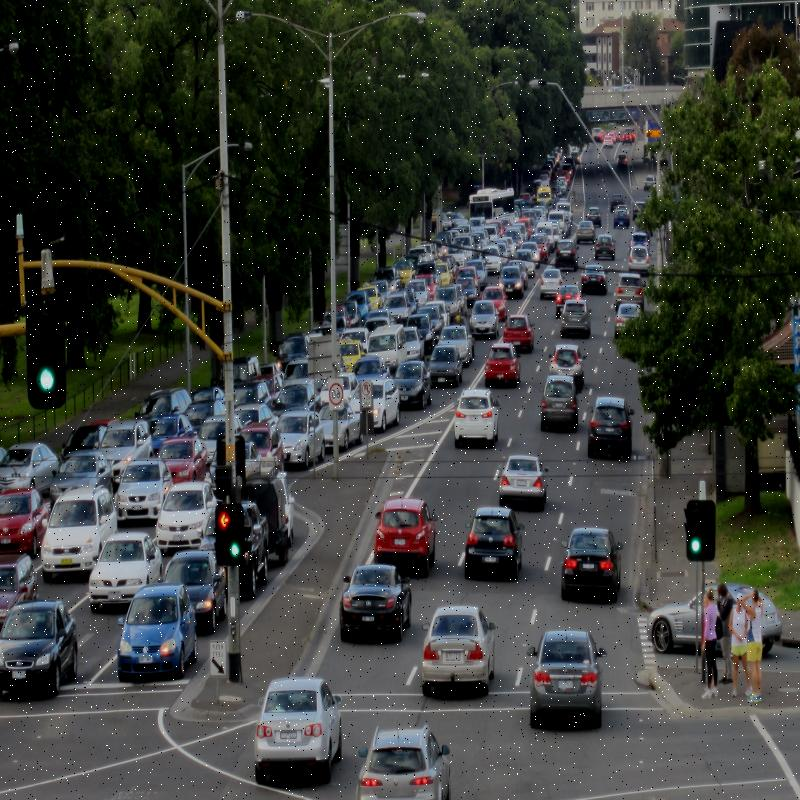car: (106, 576, 196, 710), (255, 672, 344, 786), (318, 548, 407, 657), (534, 611, 601, 739), (0, 587, 72, 703), (422, 597, 496, 700), (50, 478, 123, 572), (372, 732, 465, 796), (90, 526, 157, 613), (460, 505, 521, 598), (555, 513, 625, 594), (155, 474, 216, 561), (575, 393, 637, 469), (518, 374, 575, 455), (575, 362, 622, 459), (374, 487, 434, 556), (474, 327, 522, 394), (459, 370, 496, 442), (498, 450, 546, 499), (460, 382, 499, 442), (494, 440, 548, 479)
